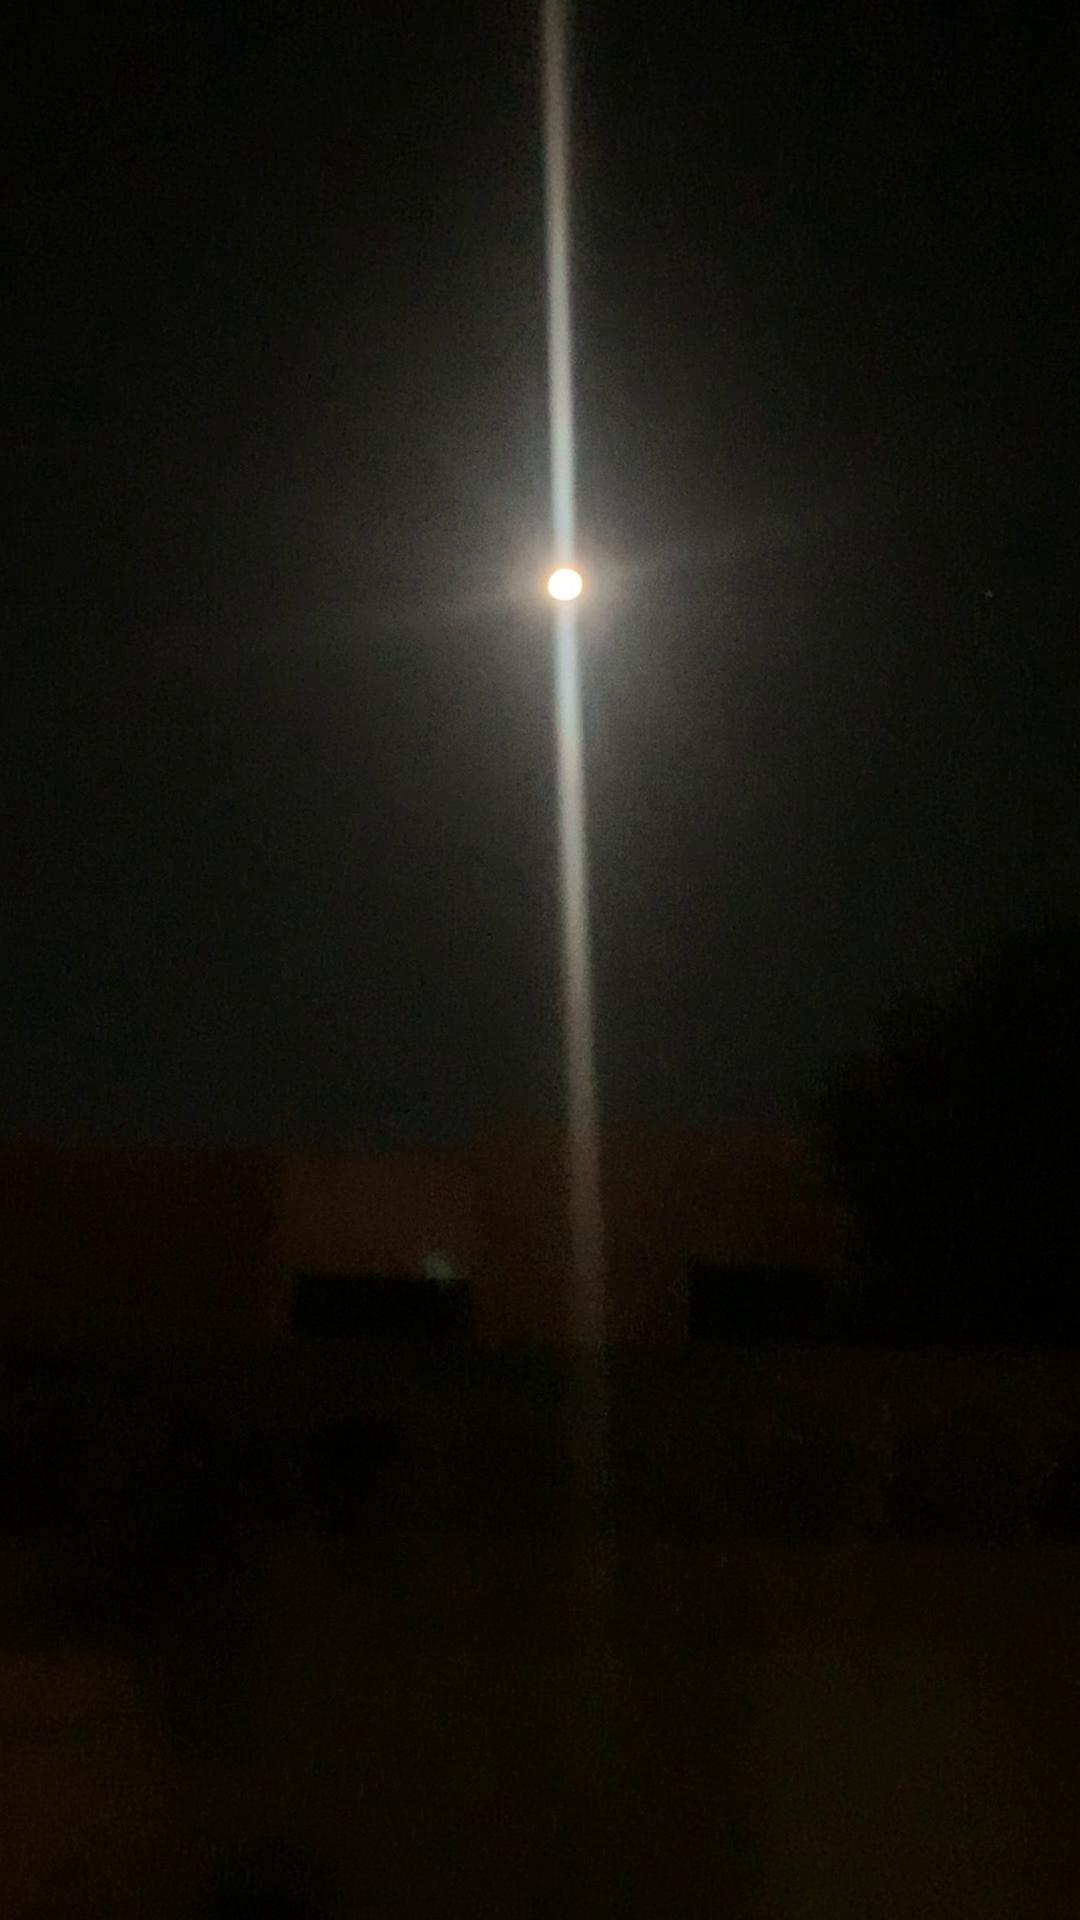moon: (492, 535, 600, 636)
